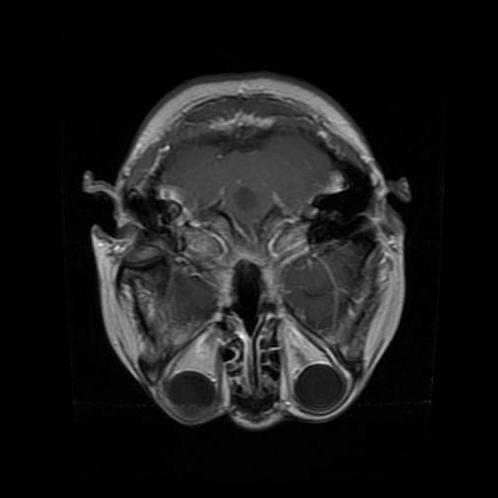Tumour-Glioma: (125, 230, 198, 312)
